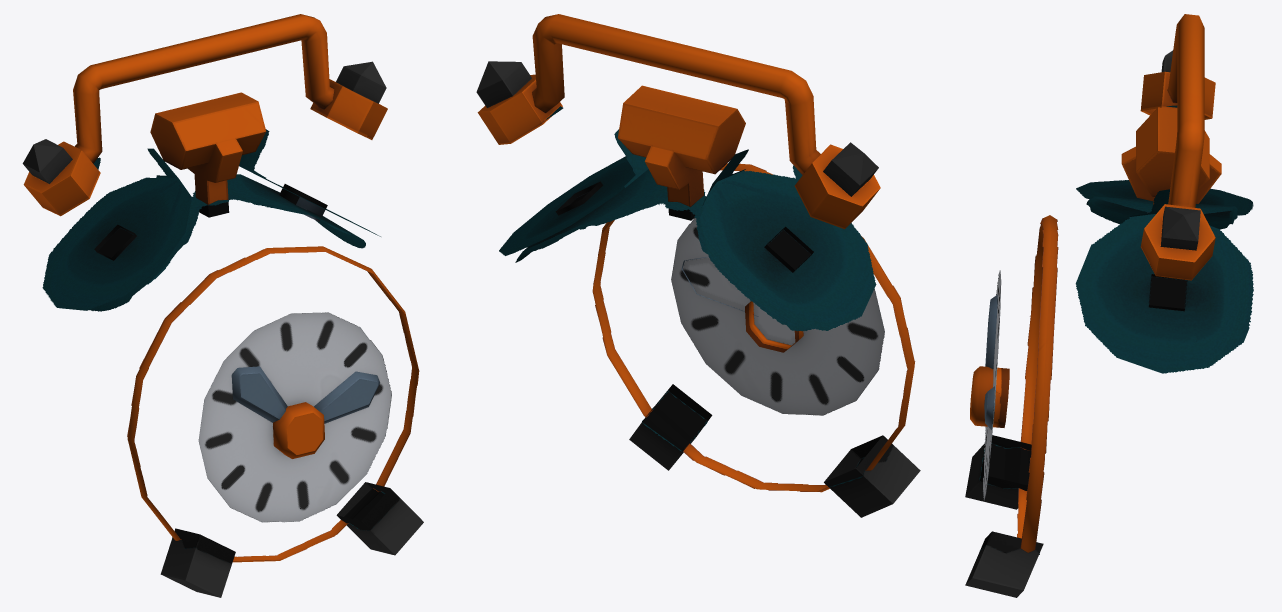
File: obj_factory_clock_01.fbx
The picture shows the model from 3 angles, left to right: view 1: azimuth 30°, elevation 25°; view 2: azimuth 150°, elevation 25°; view 3: azimuth 270°, elevation 25°; orthographic projection. The views are drawn at different scales.
Visible parts, largest first — view 1: obj_factory_clock_01_lp; view 2: obj_factory_clock_01_lp; view 3: obj_factory_clock_01_lp.
Part boxes in pixels (x1,y1,x2,y2): obj_factory_clock_01_lp: (22, 14, 423, 597); obj_factory_clock_01_lp: (476, 14, 920, 517); obj_factory_clock_01_lp: (965, 14, 1253, 597).
Size of the model in its own units: 2.24 by 2.88 by 1.54.
